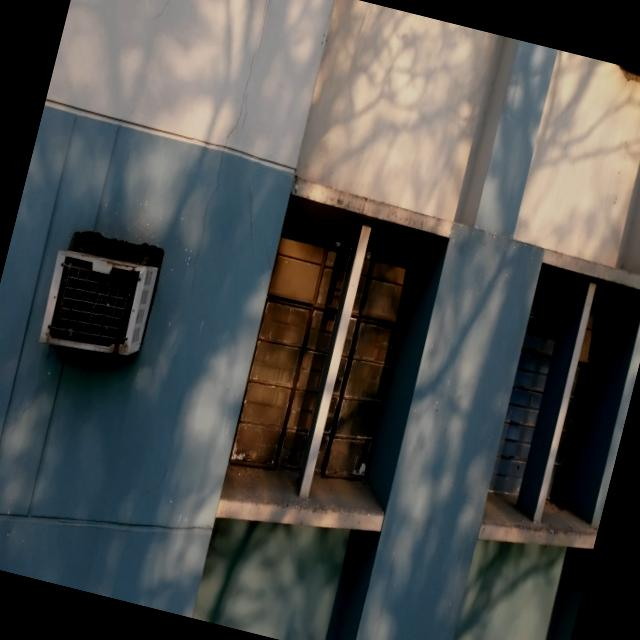Crack: (226, 0, 270, 145), (185, 149, 223, 304), (258, 221, 281, 269), (248, 188, 256, 253)
